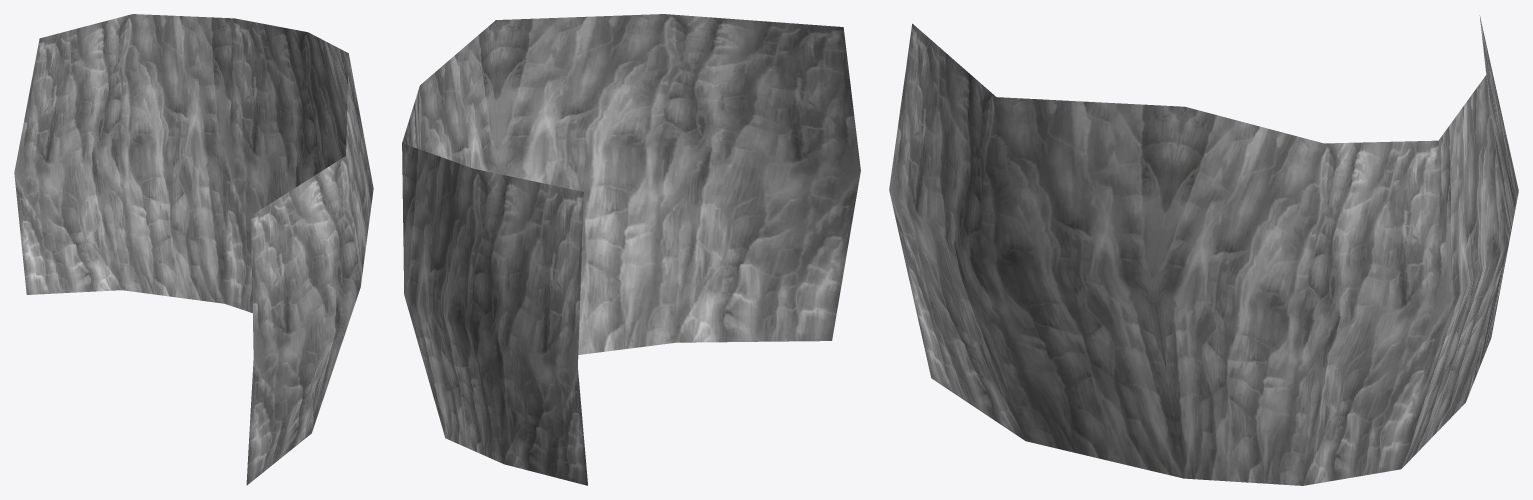
The model's file is SWORDLIGHT20_PS-AREA03_60.fbx.
3 renders of one model, left to right at view 1: azimuth 30°, elevation 25°; view 2: azimuth 150°, elevation 25°; view 3: azimuth 270°, elevation 25°, orthographic. The views are drawn at different scales.
Parts seen in each view (by area): view 1: SWORDLIGHT20_PS-AREA03_60; view 2: SWORDLIGHT20_PS-AREA03_60; view 3: SWORDLIGHT20_PS-AREA03_60.
Boxes of the visible parts, <box> form: SWORDLIGHT20_PS-AREA03_60: <box>14,14,373,485</box>; SWORDLIGHT20_PS-AREA03_60: <box>402,14,860,485</box>; SWORDLIGHT20_PS-AREA03_60: <box>889,15,1518,485</box>.
Size of the model in its own units: 89596 by 116547 by 167452.
1 material, 1 textured.
